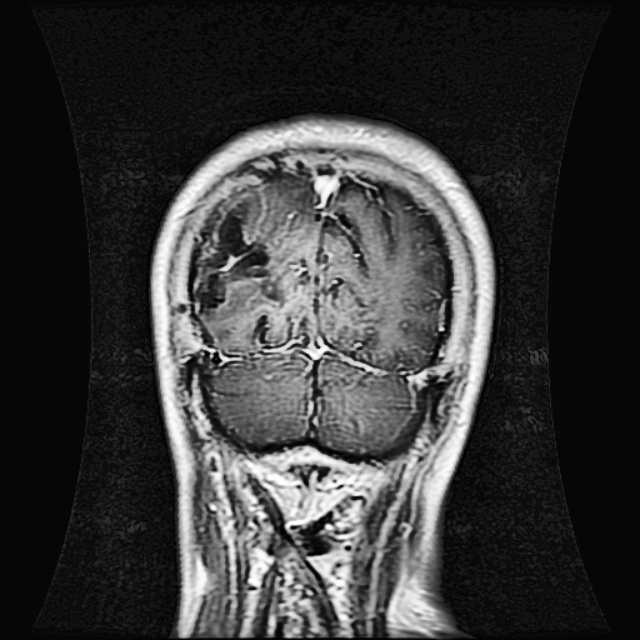Meningioma: (200, 203, 269, 310)
